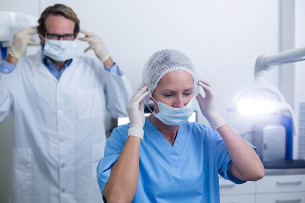face_mask: (153, 73, 198, 125), (44, 19, 75, 61)
